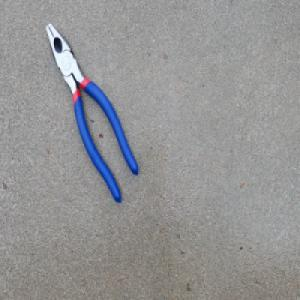Pliers: (46, 20, 140, 204)
